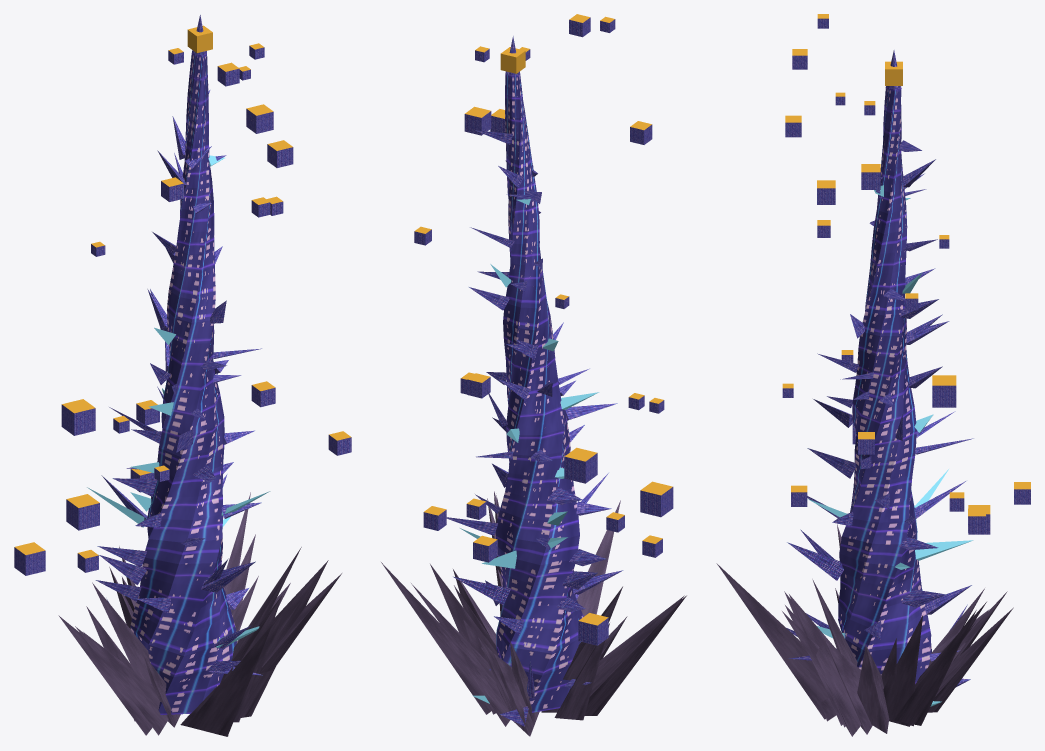
Rendered from spire.glb.
The picture shows the model from 3 angles, left to right: view 1: azimuth 30°, elevation 25°; view 2: azimuth 150°, elevation 25°; view 3: azimuth 270°, elevation 25°; orthographic projection. The views are drawn at different scales.
Parts seen in each view (by area): view 1: Spire; view 2: Spire; view 3: Spire.
Part boxes in pixels (x1=…): Spire: x1=14, y1=15, x2=351, y2=736; Spire: x1=381, y1=14, x2=686, y2=736; Spire: x1=716, y1=14, x2=1030, y2=736.
Bounding box in the file's own units: 64.01 × 165 × 69.37.
Materials: 4 (4 with a texture image).
